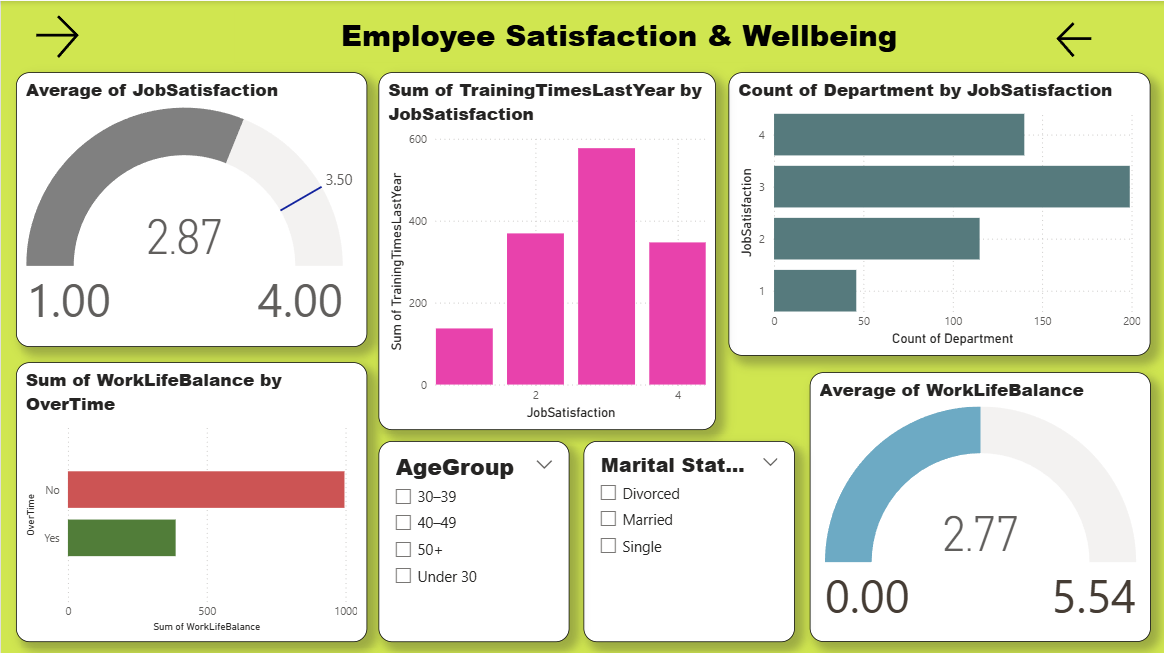

The page's visual inventory and layout, read from the dashboard file:
{"tool":"powerbi","page":{"name":"Page 4","canvas":[1280,720],"ordinal":3},"visuals":[{"type":"gauge","fields":{"Y":["Avg(HR_Analytics_Dataset.JobSatisfaction)"]},"box":[16.5,78.2,385.6,301.9],"z":0},{"type":"gauge","fields":{"Y":["Avg(HR_Analytics_Dataset.WorkLifeBalance)"]},"box":[887.8,407.5,374.6,296.4],"z":1000},{"type":"clusteredBarChart","fields":{"Category":["HR_Analytics_Dataset.JobSatisfaction"],"Y":["CountNonNull(HR_Analytics_Dataset.Department)"]},"box":[798.7,78.4,463.3,311.3],"z":2000},{"type":"barChart","fields":{"Category":["HR_Analytics_Dataset.OverTime"],"Y":["Sum(HR_Analytics_Dataset.WorkLifeBalance)"]},"box":[16.5,396.6,385.6,307.4],"z":3000},{"type":"clusteredColumnChart","fields":{"Category":["HR_Analytics_Dataset.JobSatisfaction"],"Y":["Sum(HR_Analytics_Dataset.TrainingTimesLastYear)"]},"box":[414.4,78.2,370.5,392.5],"z":4000},{"type":"slicer","fields":{"Values":["HR_Analytics_Dataset.MaritalStatus"]},"box":[639.5,483,231.9,220.9],"z":5000},{"type":"slicer","fields":{"Values":["HR_Analytics_Dataset.AgeGroup"]},"box":[414.4,483,209.9,220.9],"z":6000},{"type":"actionButton","box":[31.6,9.6,78.2,59],"z":7000},{"type":"textbox","box":[256.6,9.6,843.9,57.6],"z":8000},{"type":"actionButton","box":[1153.4,18.1,74.8,49.5],"z":9000}]}

Visuals, with their boxes in screenshot pixels (x1, y1, x2, y2), scaled from the page's 1280x720 canvas onto the 1164x653 screenshot:
gauge - Avg(HR_Analytics_Dataset.JobSatisfaction): 15,71,366,345
gauge - Avg(HR_Analytics_Dataset.WorkLifeBalance): 807,370,1148,638
clusteredBarChart - HR_Analytics_Dataset.JobSatisfaction x CountNonNull(HR_Analytics_Dataset.Department): 726,71,1148,353
barChart - HR_Analytics_Dataset.OverTime x Sum(HR_Analytics_Dataset.WorkLifeBalance): 15,360,366,638
clusteredColumnChart - HR_Analytics_Dataset.JobSatisfaction x Sum(HR_Analytics_Dataset.TrainingTimesLastYear): 377,71,714,427
slicer - HR_Analytics_Dataset.MaritalStatus: 582,438,792,638
slicer - HR_Analytics_Dataset.AgeGroup: 377,438,568,638
actionButton: 29,9,100,62
textbox: 233,9,1001,61
actionButton: 1049,16,1117,61
